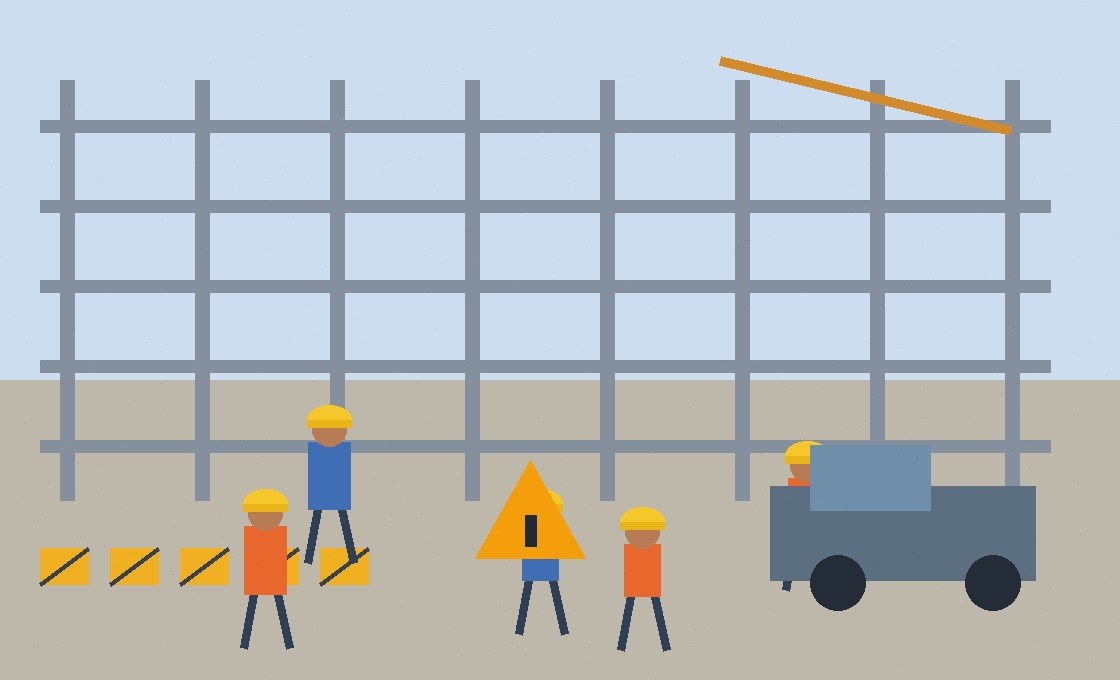helmet: (235, 350, 277, 384)
person: (220, 360, 282, 530)
vehicle: (770, 445, 1035, 595)
vest: (210, 395, 282, 483)
warning_sign: (475, 458, 585, 558)
